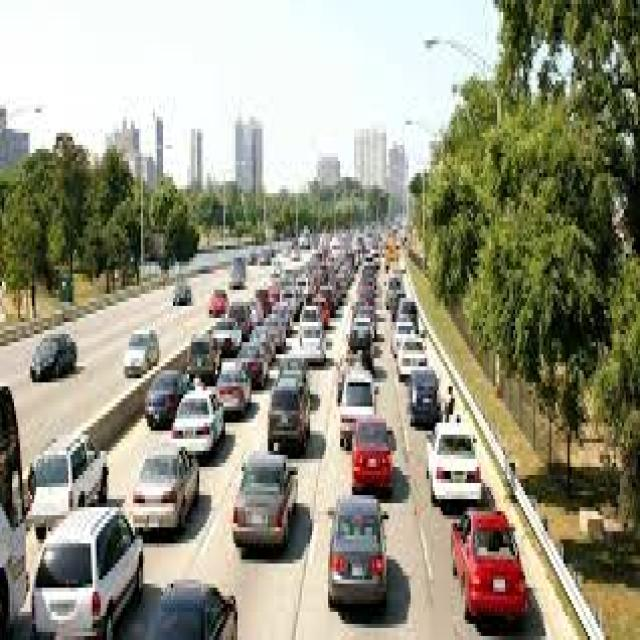high_traffic: (169, 227, 444, 640)
